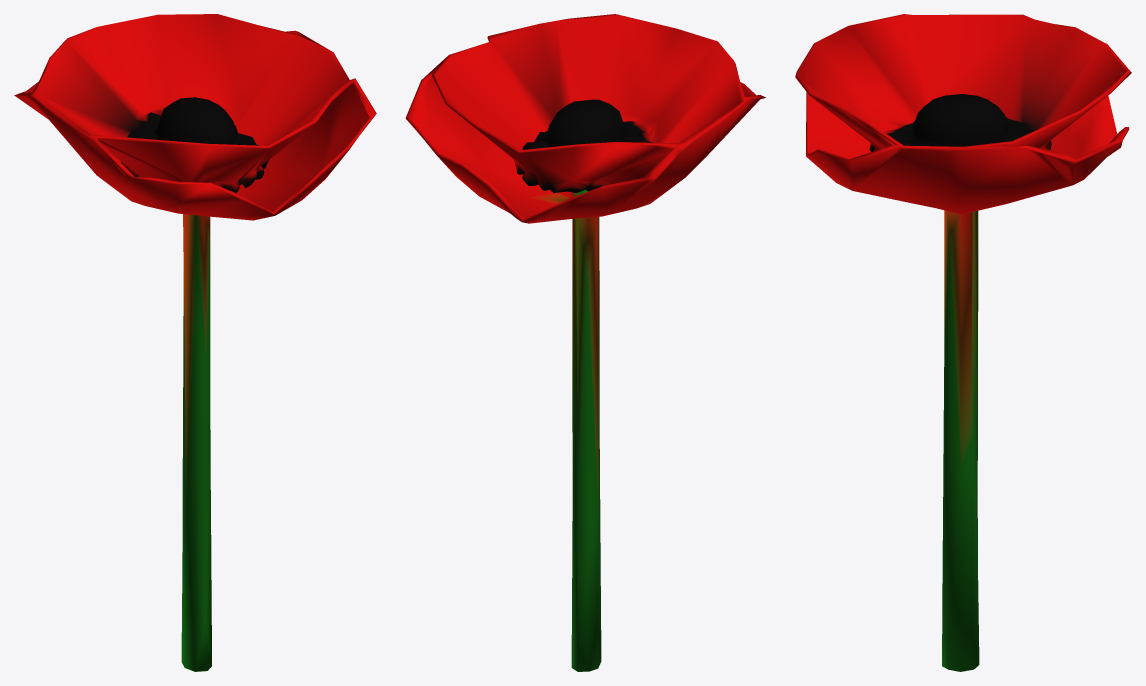
Rendered from gen3d-poppy-flower-lod1.glb.
The picture shows the model from 3 angles, left to right: view 1: azimuth 30°, elevation 25°; view 2: azimuth 150°, elevation 25°; view 3: azimuth 270°, elevation 25°; orthographic projection.
Visible parts, largest first — view 1: part_0; view 2: part_0; view 3: part_0.
Part boxes in pixels (<box>): part_0: <box>14,14,376,671</box>; part_0: <box>405,14,765,671</box>; part_0: <box>795,14,1131,671</box>.
Bounding box in the file's own units: 0.4864 × 0.9989 × 0.5118.
